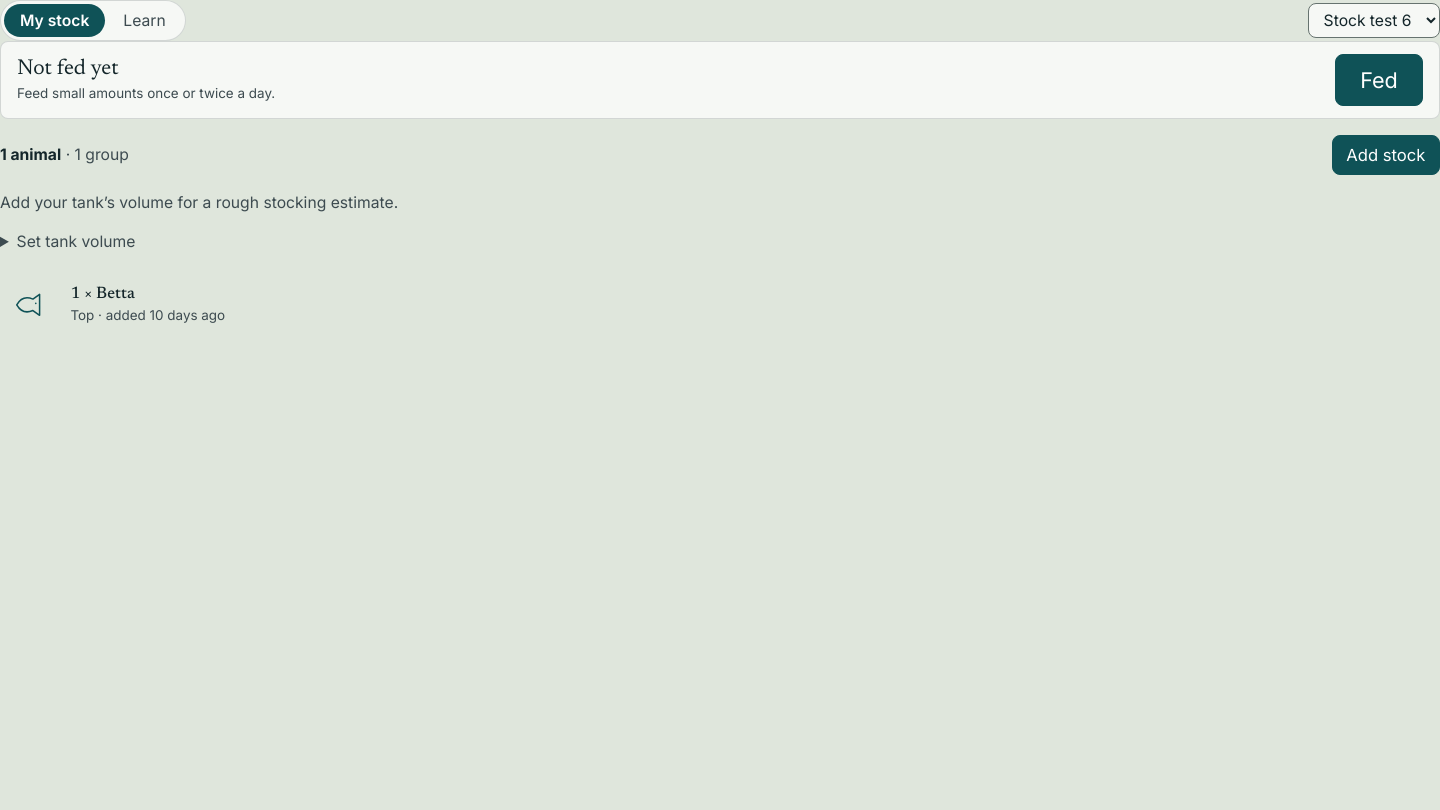
adding stock › warns when the tank has a betta and the newcomer is a poor match
Expected: the navigation bar named "Stock sections" is shown, [0, 0, 186, 41]
Click the button "Add stock".
click(1386, 155)  # box [1332, 135, 1439, 175]
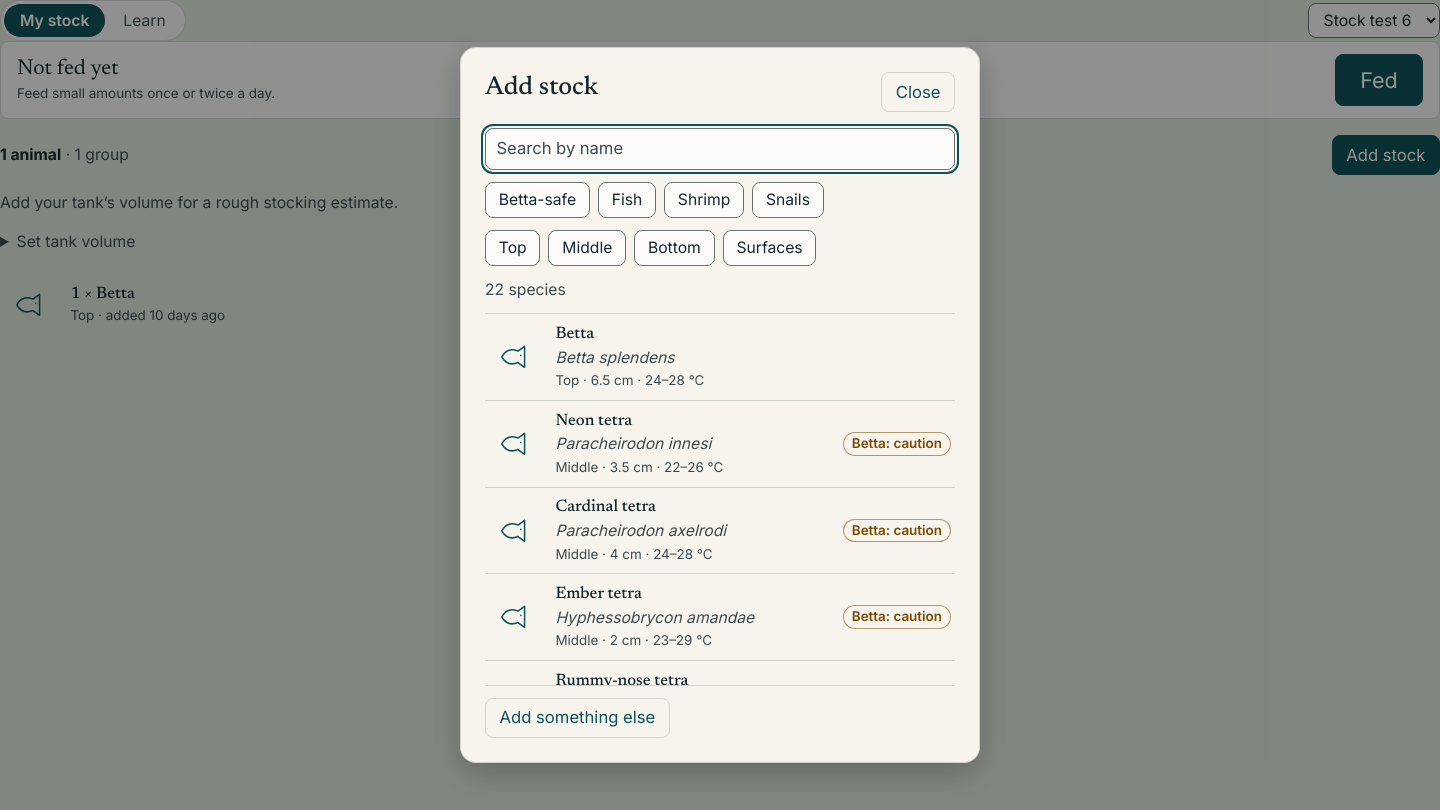
Type "guppy" into the search field named "Search animals".
click(720, 149); type("guppy")  # box [485, 128, 955, 170]
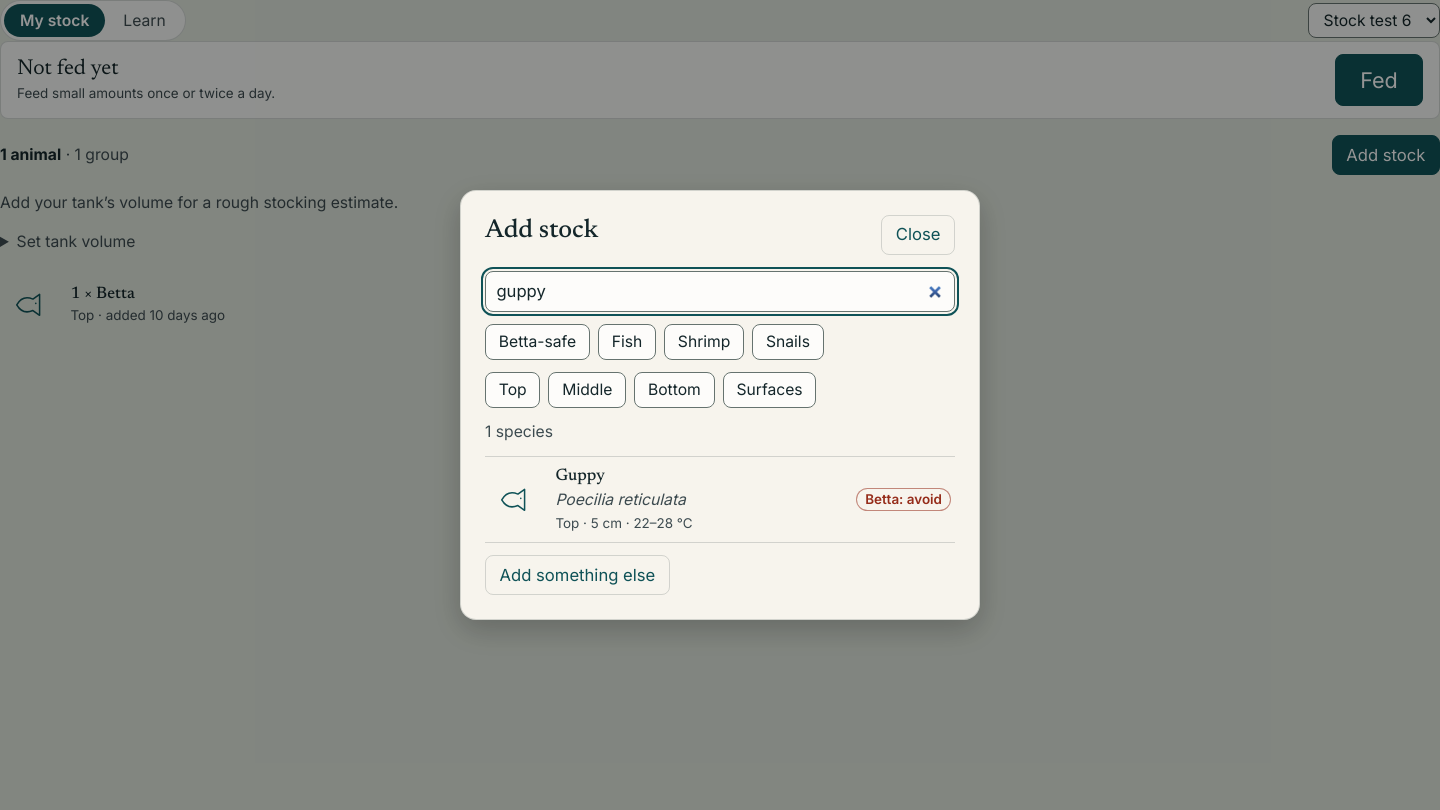
Click the button "Guppy Poecilia reticulata Top · 5 cm · 22–28 °C Betta: avoid".
click(516, 500)  # box [485, 457, 955, 542]
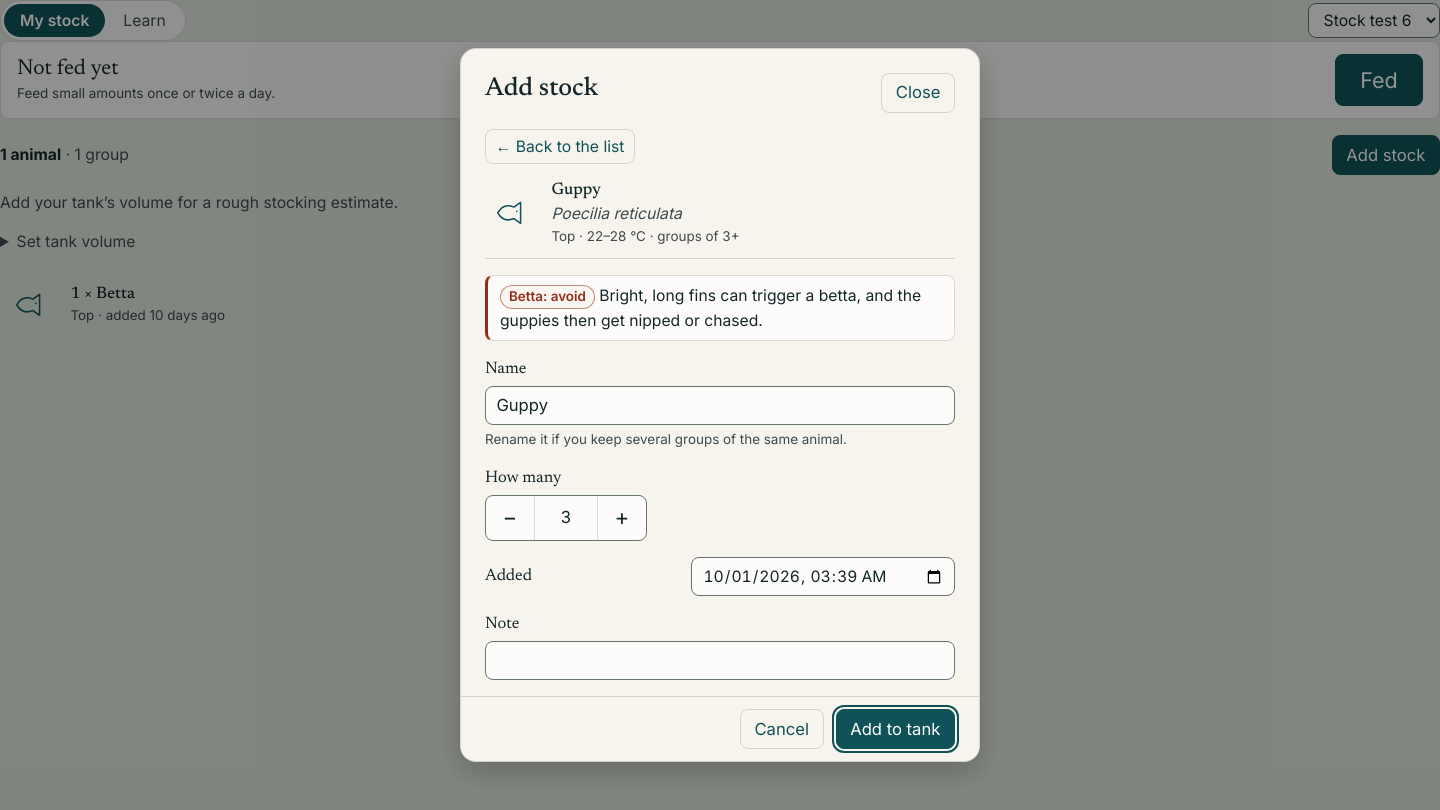
Expected: the element that starts with "Betta: avoid" shows "trigger a betta", [500, 286, 921, 330]
